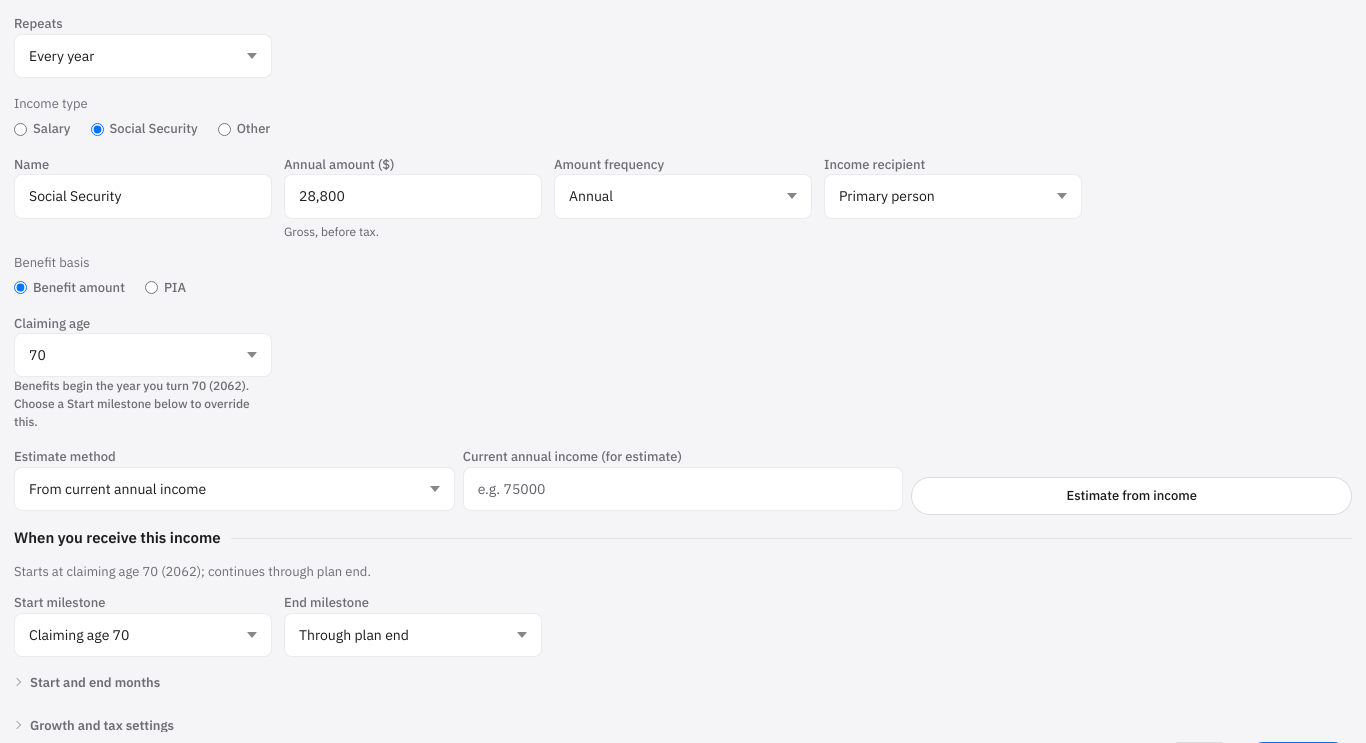
IncomeForm › reopens with the saved claiming age and defers to an explicit start milestone
Expected: the dropdown labelled "Claiming age" shows "70", [14, 333, 272, 377]
Select "Retirement" in the dropdown labelled "Start milestone" at x=143, y=635, box [14, 613, 272, 657]
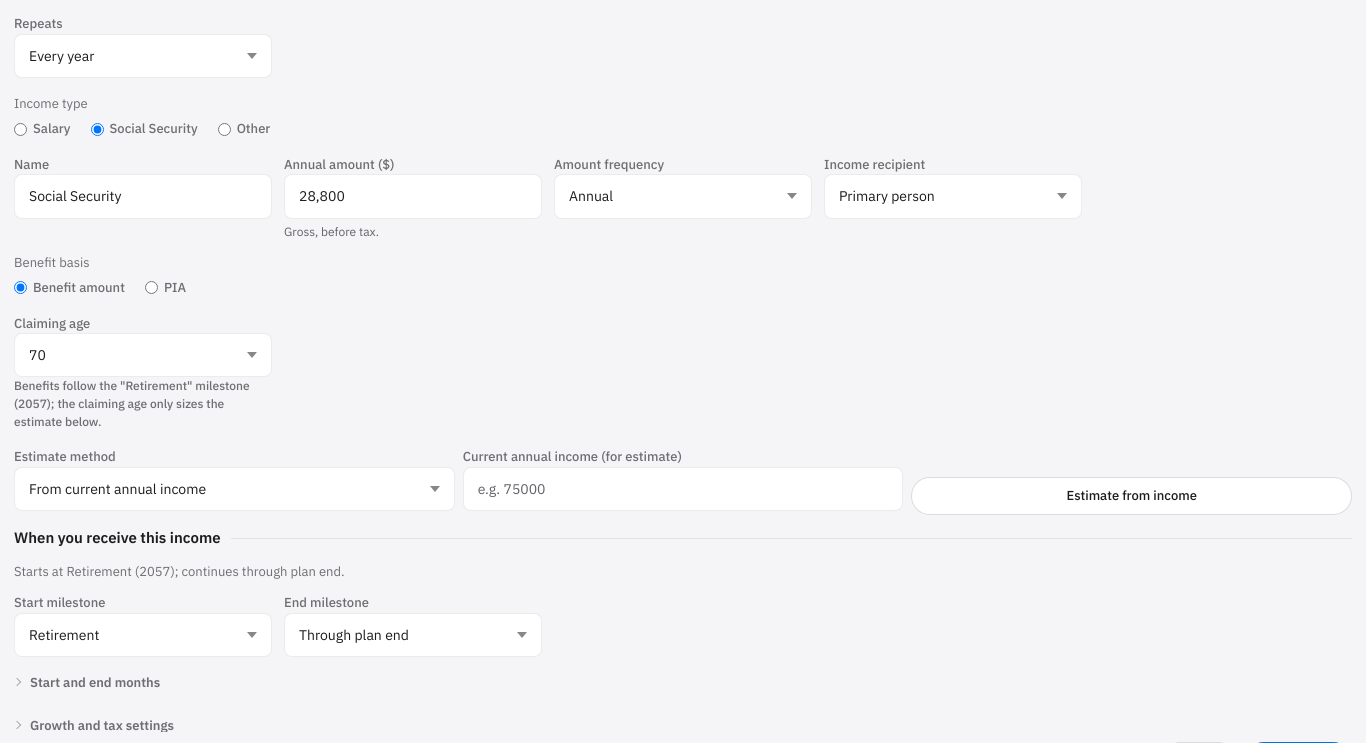
Expected: the text "Benefits follow the \"Retirement\" milestone (2057)" is shown, [14, 378, 250, 429]
